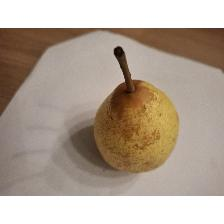Birne: (91, 43, 184, 176)
